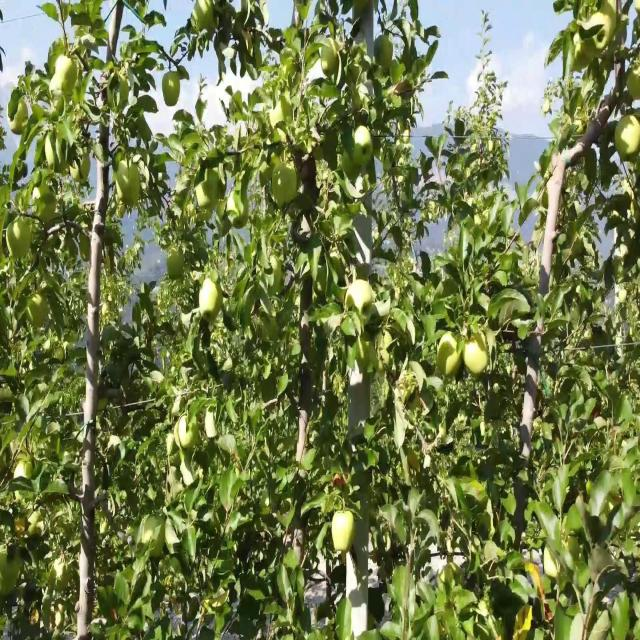apple: (348, 127, 375, 178), (272, 163, 300, 208), (616, 113, 640, 165), (52, 56, 80, 100), (116, 163, 142, 208), (464, 334, 489, 379), (200, 277, 224, 322), (440, 334, 463, 380), (332, 511, 356, 553), (596, 7, 618, 52), (8, 220, 32, 261), (352, 127, 375, 169), (192, 0, 217, 34), (348, 284, 374, 316), (228, 191, 248, 231), (36, 191, 57, 228), (320, 42, 341, 78), (376, 35, 395, 71), (28, 298, 49, 329), (196, 184, 214, 220), (164, 71, 181, 107), (356, 341, 374, 375), (168, 248, 185, 283), (344, 149, 361, 183), (176, 419, 195, 448), (76, 156, 92, 185), (12, 106, 28, 135), (528, 568, 544, 597), (628, 63, 640, 101), (516, 611, 532, 638), (332, 469, 350, 491), (112, 149, 128, 171), (364, 163, 376, 192), (408, 447, 421, 471), (116, 199, 128, 222), (632, 199, 640, 226), (592, 405, 603, 420)
